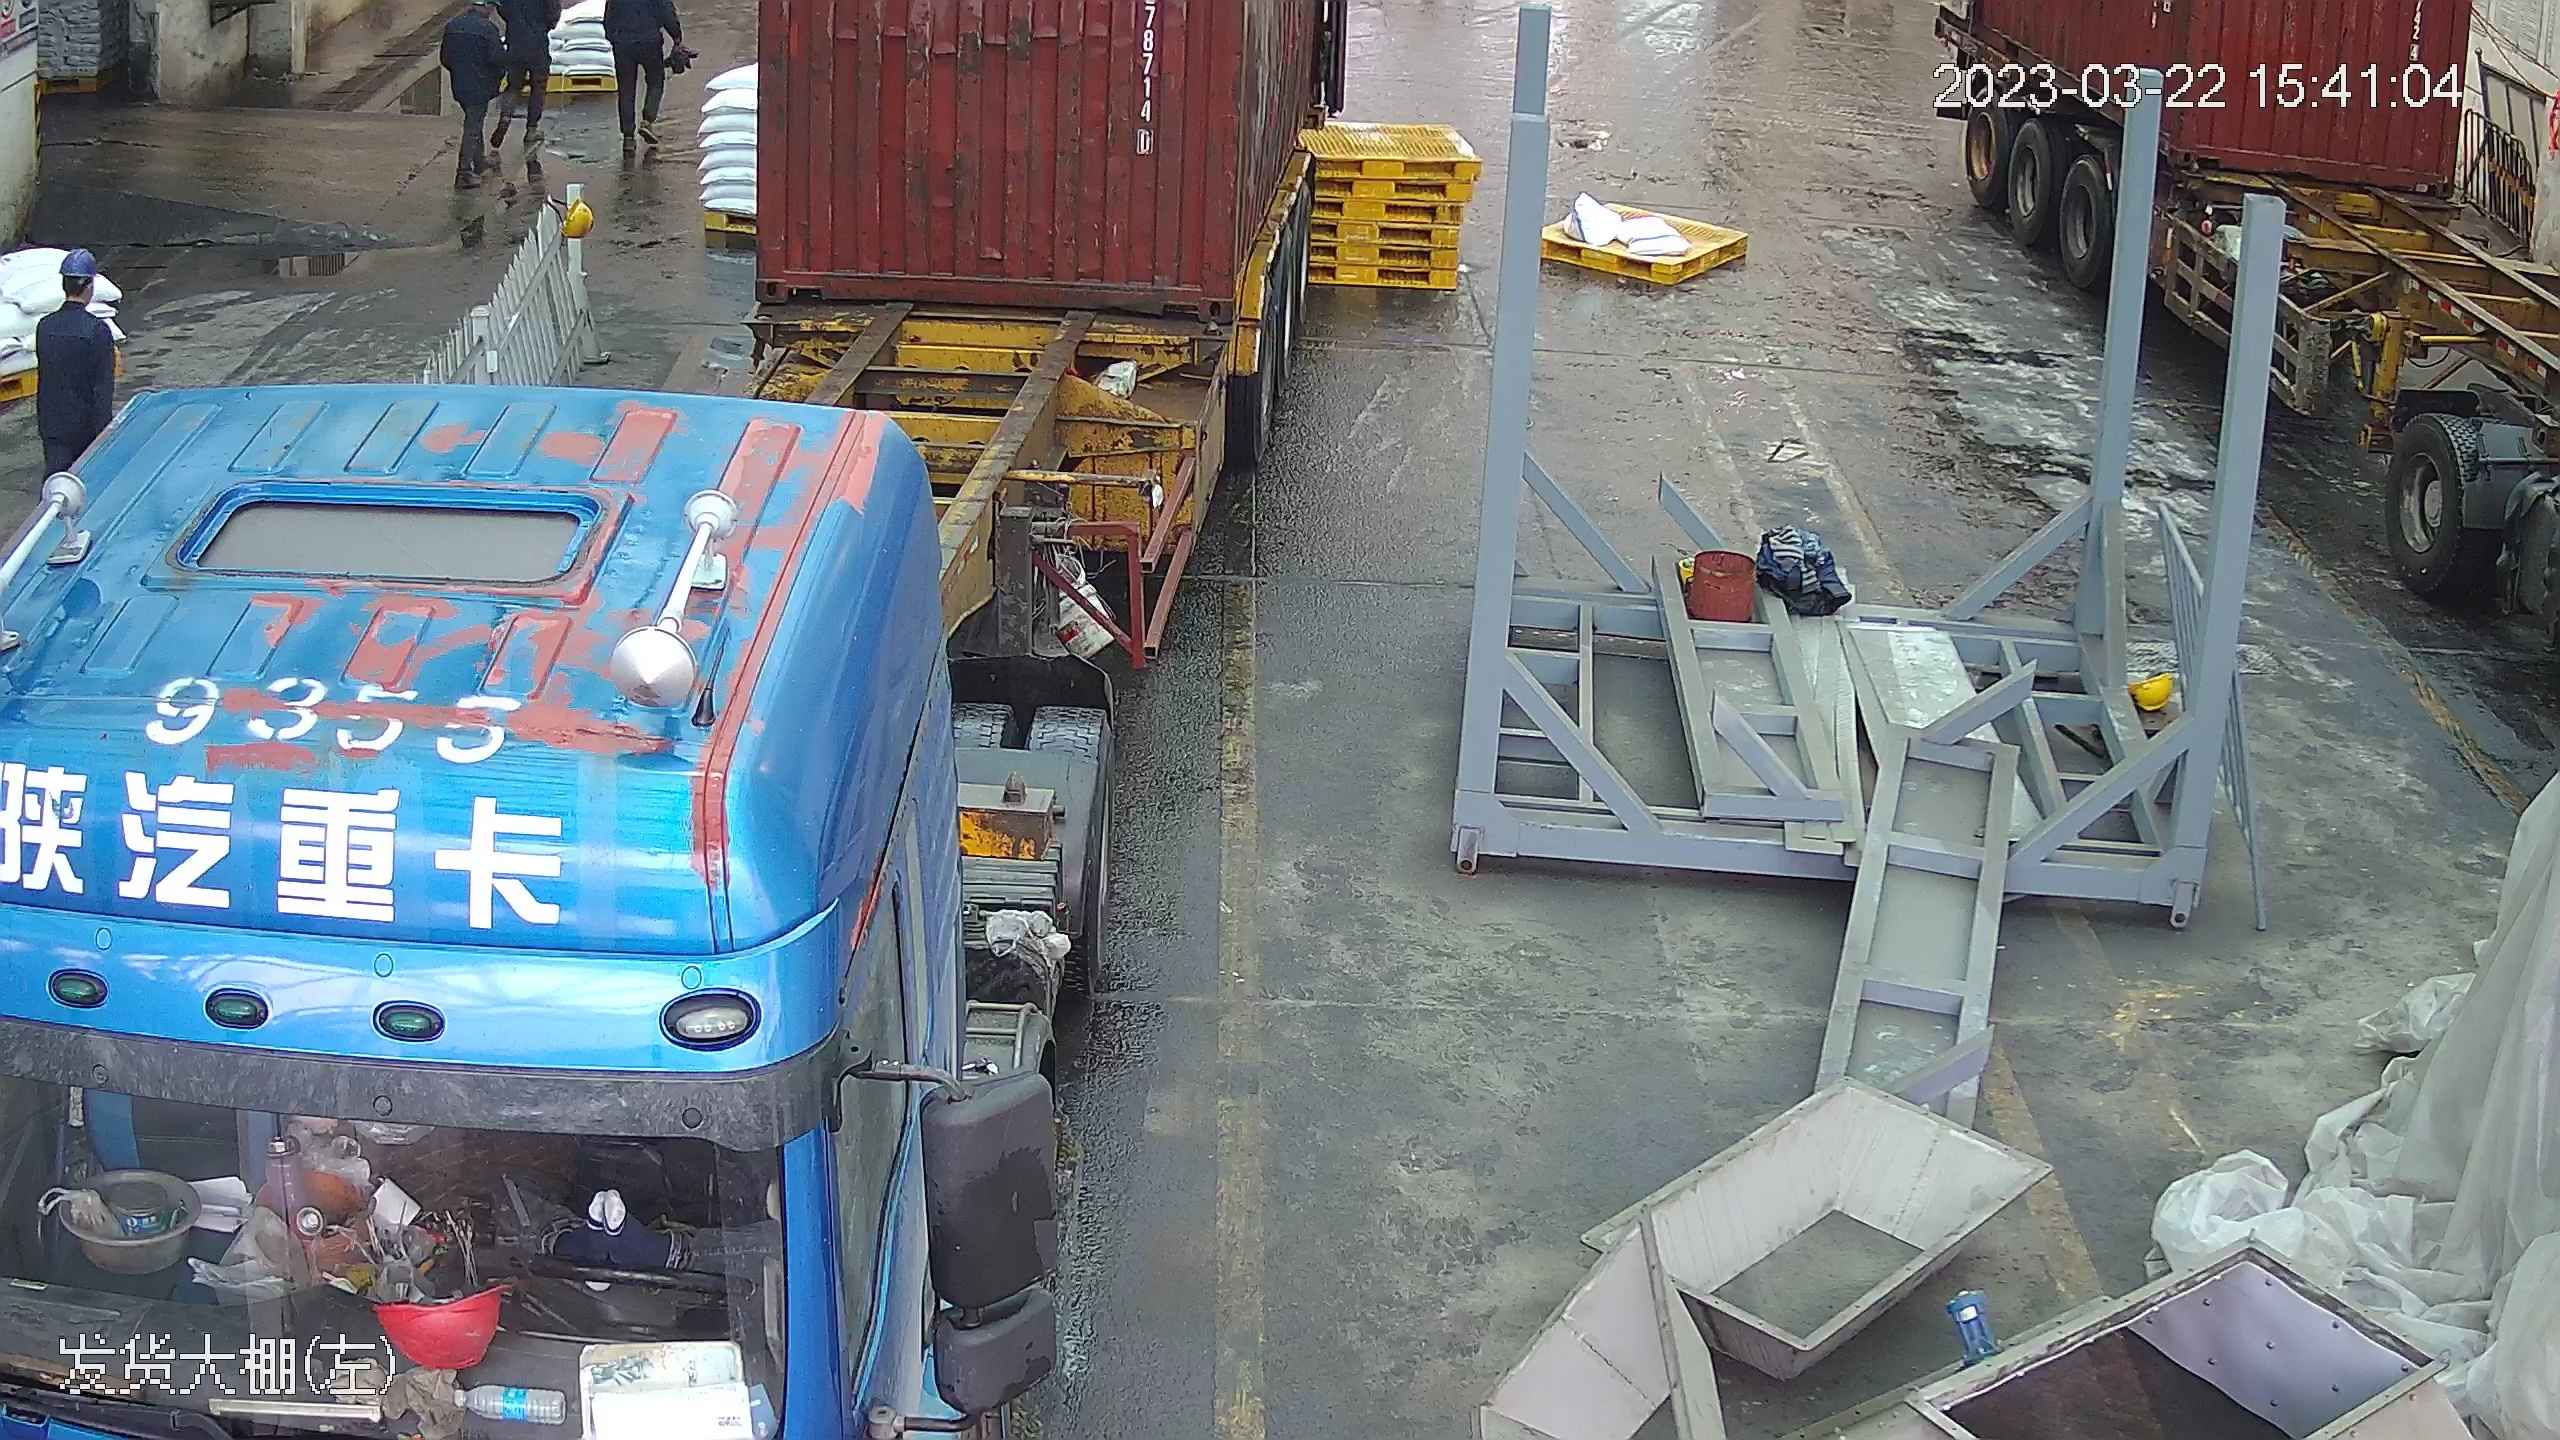head: (39, 256, 121, 346)
helmet: (55, 251, 102, 290), (558, 196, 592, 234)
people: (29, 247, 129, 474), (435, 1, 529, 191), (600, 2, 681, 166)
truck: (1, 1, 1381, 1440)
